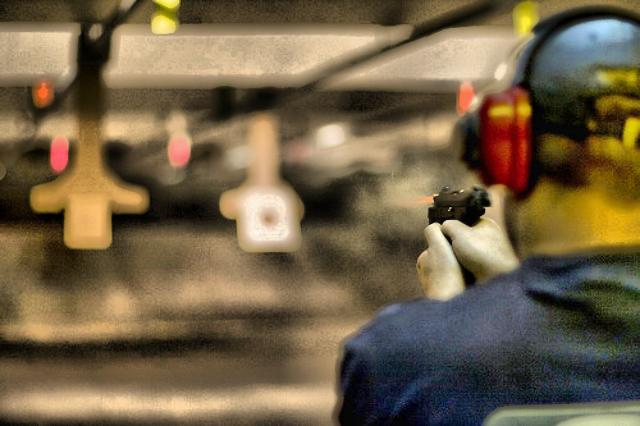pistol: (426, 186, 490, 288)
